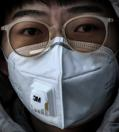with_mask: (2, 2, 119, 132)
